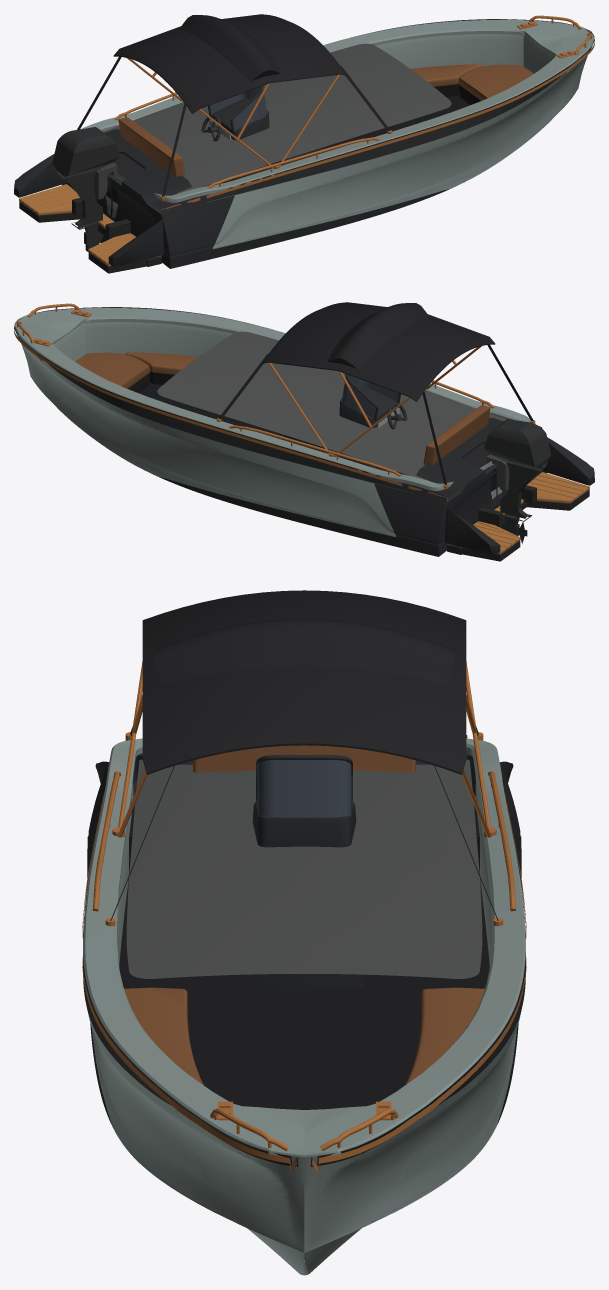
Rendered from PXL.glb.
3 renders of one model, top to bottom at view 1: azimuth 30°, elevation 25°; view 2: azimuth 150°, elevation 25°; view 3: azimuth 270°, elevation 25°, orthographic. The views are drawn at different scales.
Visible parts, largest first — view 1: accessory_cockpit_cover, hull_primary, bimini_canopy, gunwale_capping, transom_black, interior_hard_liner, hull_accent, motor, bimini_boot, stern_spoiler, platform_deck, hull_lower (+12 smaller); view 2: accessory_cockpit_cover, hull_primary, bimini_canopy, gunwale_capping, transom_black, interior_hard_liner, hull_accent, motor, bimini_boot, stern_spoiler, platform_deck, hull_lower (+12 smaller); view 3: accessory_cockpit_cover, bimini_canopy, hull_primary, cockpit_sole, gunwale_capping, bimini_boot, windshield, console_detail, cushion_lid_port, cushion_lid_starboard, hull_accent, upholstery_primary (+6 smaller).
Part boxes in pixels (bbox=[...]): accessory_cockpit_cover: bbox=[103, 43, 451, 193]; hull_primary: bbox=[212, 29, 592, 249]; bimini_canopy: bbox=[113, 14, 346, 113]; gunwale_capping: bbox=[81, 19, 594, 202]; transom_black: bbox=[62, 129, 234, 268]; interior_hard_liner: bbox=[105, 34, 554, 211]; hull_accent: bbox=[107, 19, 594, 213]; motor: bbox=[52, 127, 119, 252]; bimini_boot: bbox=[179, 15, 287, 81]; stern_spoiler: bbox=[14, 154, 163, 266]; platform_deck: bbox=[19, 184, 161, 266]; hull_lower: bbox=[107, 189, 449, 259]; accessory_cockpit_cover: bbox=[157, 331, 505, 481]; hull_primary: bbox=[16, 317, 396, 537]; bimini_canopy: bbox=[262, 302, 495, 401]; gunwale_capping: bbox=[14, 307, 530, 490]; transom_black: bbox=[374, 417, 546, 556]; interior_hard_liner: bbox=[54, 322, 502, 499]; hull_accent: bbox=[14, 307, 541, 501]; motor: bbox=[484, 419, 551, 543]; bimini_boot: bbox=[321, 303, 429, 369]; stern_spoiler: bbox=[445, 437, 594, 554]; platform_deck: bbox=[447, 472, 589, 554]; hull_lower: bbox=[159, 477, 501, 547]; accessory_cockpit_cover: bbox=[126, 759, 482, 978]; bimini_canopy: bbox=[142, 590, 466, 774]; hull_primary: bbox=[87, 864, 521, 1275]; cockpit_sole: bbox=[119, 755, 503, 1109]; gunwale_capping: bbox=[83, 738, 525, 1157]; bimini_boot: bbox=[153, 619, 455, 684]; windshield: bbox=[257, 760, 351, 817]; console_detail: bbox=[252, 755, 356, 847]; cushion_lid_port: bbox=[124, 987, 203, 1085]; cushion_lid_starboard: bbox=[405, 987, 484, 1085]; hull_accent: bbox=[83, 753, 525, 1166]; upholstery_primary: bbox=[193, 745, 415, 772].
Bounding box in the file's own units: 5.76 × 2.1 × 2.1.
